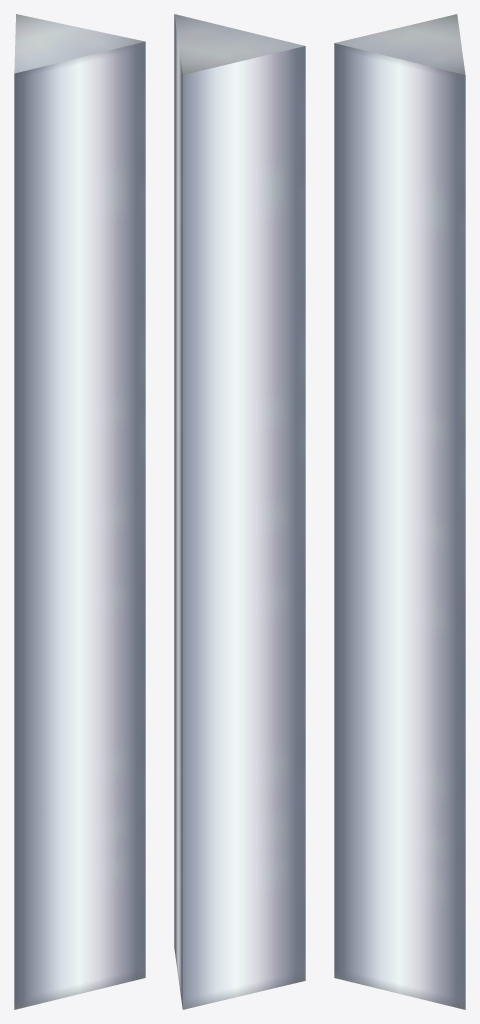
File: POLE18.glb
The picture shows the model from 3 angles, left to right: view 1: azimuth 30°, elevation 25°; view 2: azimuth 150°, elevation 25°; view 3: azimuth 330°, elevation 25°; orthographic projection.
Visible parts, largest first — view 1: POLE18; view 2: POLE18; view 3: POLE18.
Part boxes in pixels (box(x1,y1,x2,y2)): POLE18: box(14, 14, 145, 1009); POLE18: box(174, 14, 305, 1009); POLE18: box(334, 14, 465, 1009).
Bounding box in the file's own units: 22.01 × 150 × 17.61.
1 material, 1 textured.
